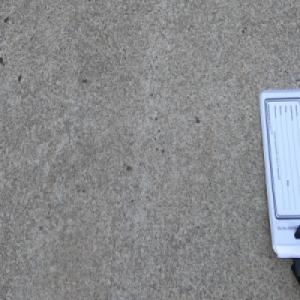LuggageTag: (257, 86, 300, 285)
